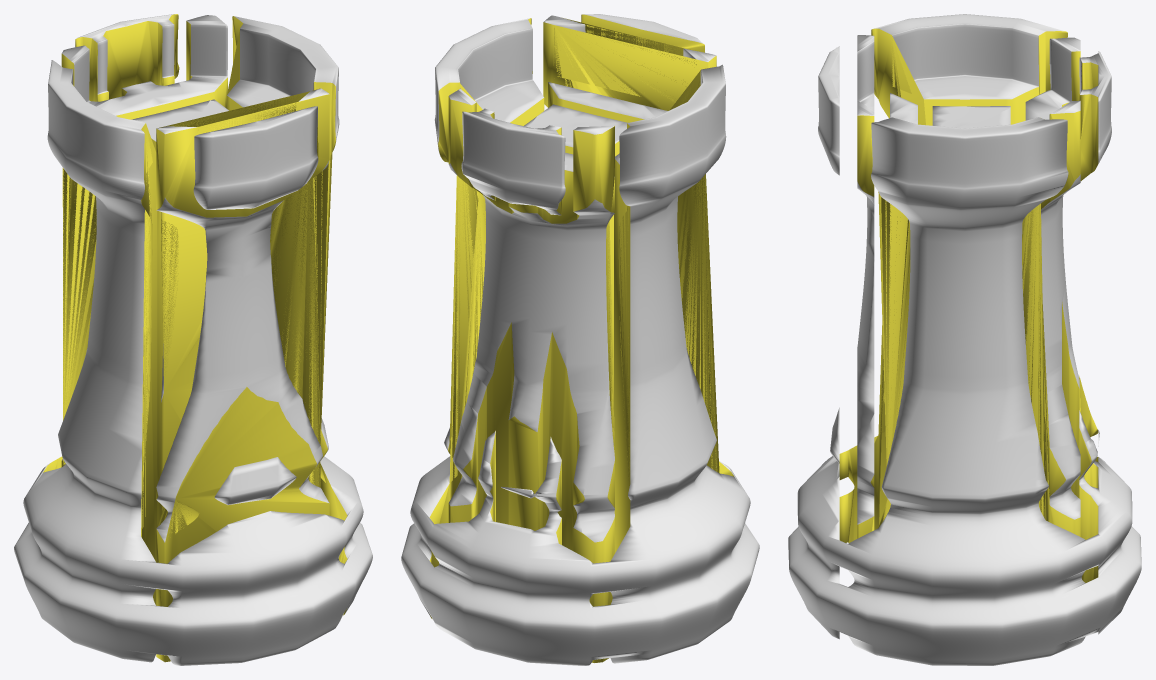
The model's file is WhiteRook.fbx.
3 views of the same model, side by side, from view 1: azimuth 30°, elevation 25°; view 2: azimuth 150°, elevation 25°; view 3: azimuth 270°, elevation 25° (orthographic).
Parts seen in each view (by area): view 1: Rook; view 2: Rook; view 3: Rook.
Boxes of the visible parts, x1,y1,x2,y2 form: Rook: (14,14,372,665); Rook: (401,14,759,665); Rook: (788,14,1141,665).
Bounding box in the file's own units: 70.56 × 119 × 70.56.
